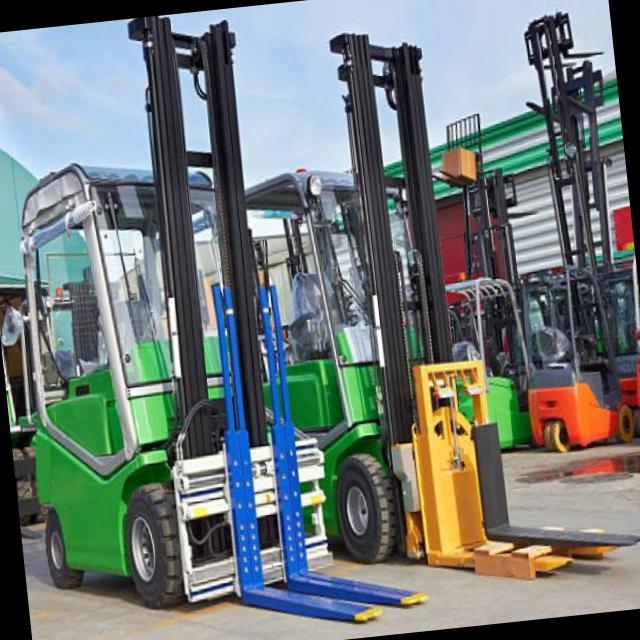forklift: (0, 2, 347, 640), (294, 0, 540, 601), (509, 228, 640, 469)
